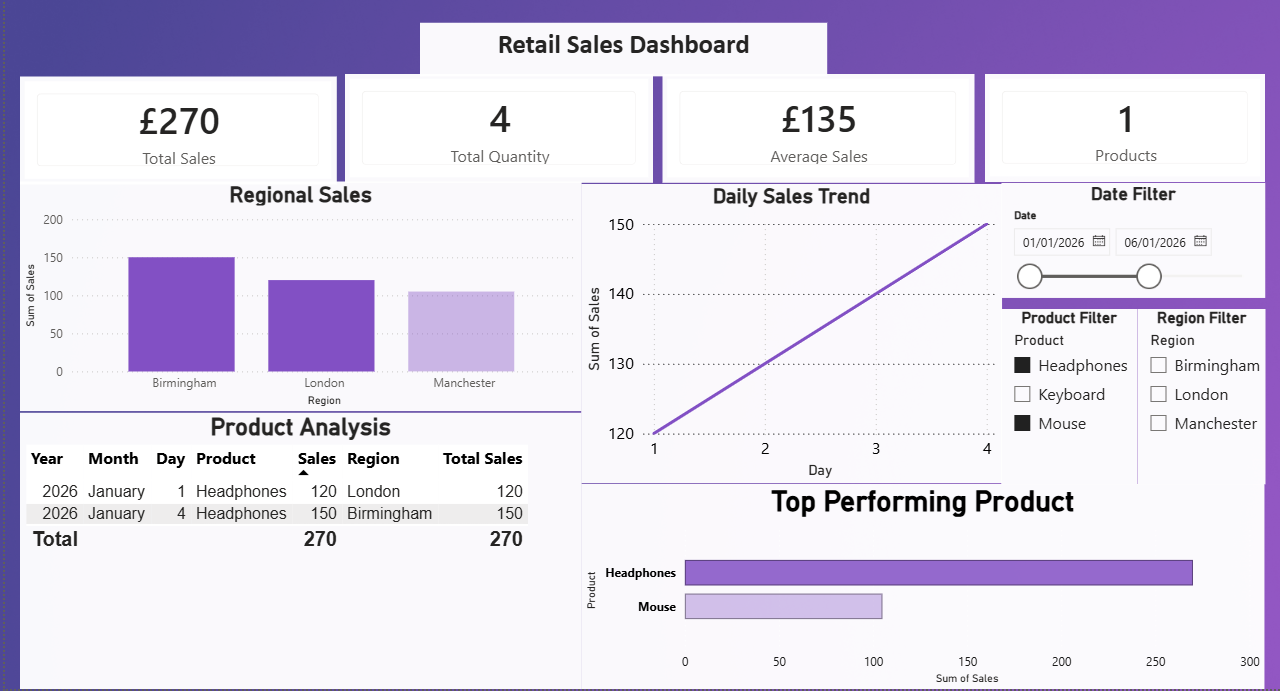

This screenshot's page, from the dashboard's own definition file:
{"tool":"powerbi","page":{"name":"Page 1","canvas":[1280,720],"ordinal":0},"visuals":[{"type":"clusteredBarChart","title":"Top Performing Product","fields":{"Category":["sales_data cvs.Product"],"Y":["Sum(sales_data cvs.Sales)"]},"box":[576.3,514.6,683.4,205.8],"z":0},{"type":"lineChart","title":"Daily Sales Trend","fields":{"Category":["sales_data cvs.Date.Variation.Date Hierarchy.Day"],"Y":["Sum(sales_data cvs.Sales)"]},"box":[576,215.2,420.7,299.6],"z":1000},{"type":"tableEx","title":"Product Analysis","fields":{"Values":["sales_data cvs.Date.Variation.Date Hierarchy.Year","sales_data cvs.Date.Variation.Date Hierarchy.Month","sales_data cvs.Date.Variation.Date Hierarchy.Day","sales_data cvs.Product","Sum(sales_data cvs.Sales)","sales_data cvs.Region","sales_data cvs.Total Sales"]},"box":[15.1,443.2,561.2,277.2],"z":2000},{"type":"cardVisual","fields":{"Data":["sales_data cvs.Average Sales"]},"box":[657.9,105.2,311.8,108.8],"z":3000},{"type":"cardVisual","fields":{"Data":["sales_data cvs.Total Quantity"]},"box":[339.9,105.2,308.2,108.8],"z":4000},{"type":"cardVisual","fields":{"Data":["sales_data cvs.Total Sales"]},"box":[14.7,107.6,316.7,107.6],"z":5000},{"type":"slicer","title":"Region Filter","fields":{"Values":["sales_data cvs.Region"]},"box":[1132.3,339.9,128.4,174.9],"z":6000},{"type":"slicer","title":"Product Filter","fields":{"Values":["sales_data cvs.Product"]},"box":[996.6,339.9,135.7,174.9],"z":7000},{"type":"textbox","box":[414.5,53.8,407.2,53.8],"z":8000},{"type":"slicer","title":"Date Filter","fields":{"Values":["sales_data cvs.Date"]},"box":[996.6,214,264.1,114.9],"z":9000},{"type":"clusteredColumnChart","title":"Regional Sales","fields":{"Category":["sales_data cvs.Region"],"Y":["Sum(sales_data cvs.Sales)"]},"box":[14.7,212.8,561.3,229.9],"z":9001},{"type":"cardVisual","fields":{"Data":["sales_data cvs.Number of Products"]},"box":[979.5,105.2,280,107.6],"z":9002}]}

Visuals, with their boxes on the page's 1280x720 design canvas (x1, y1, x2, y2). These are canvas units, not pixel positions in the 1280x691 screenshot, which may show the page scaled, cropped or inside an application window:
"Top Performing Product" clusteredBarChart: {"left": 576, "top": 515, "right": 1260, "bottom": 720}
"Daily Sales Trend" lineChart: {"left": 576, "top": 215, "right": 997, "bottom": 515}
"Product Analysis" tableEx: {"left": 15, "top": 443, "right": 576, "bottom": 720}
cardVisual - sales_data cvs.Average Sales: {"left": 658, "top": 105, "right": 970, "bottom": 214}
cardVisual - sales_data cvs.Total Quantity: {"left": 340, "top": 105, "right": 648, "bottom": 214}
cardVisual - sales_data cvs.Total Sales: {"left": 15, "top": 108, "right": 331, "bottom": 215}
"Region Filter" slicer: {"left": 1132, "top": 340, "right": 1261, "bottom": 515}
"Product Filter" slicer: {"left": 997, "top": 340, "right": 1132, "bottom": 515}
textbox: {"left": 414, "top": 54, "right": 822, "bottom": 108}
"Date Filter" slicer: {"left": 997, "top": 214, "right": 1261, "bottom": 329}
"Regional Sales" clusteredColumnChart: {"left": 15, "top": 213, "right": 576, "bottom": 443}
cardVisual - sales_data cvs.Number of Products: {"left": 980, "top": 105, "right": 1260, "bottom": 213}
